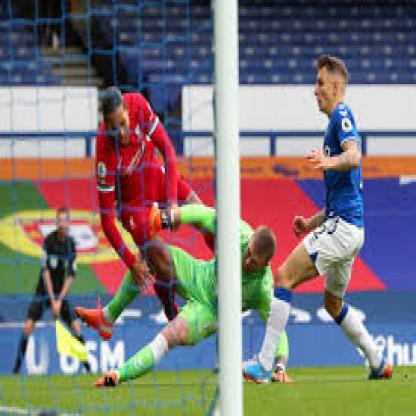Fall_Down: (75, 207, 292, 388)
